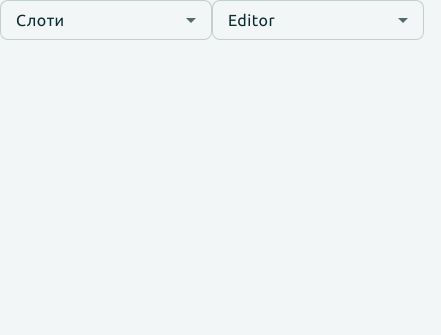
Test case: SelectSearchComponent (F9-14) › пробіл і літери в полі не вибирають пункт; Enter вибирає перший знайдений
Click the dropdown labelled "Слоти": (40, 20) [16, 8, 196, 32]
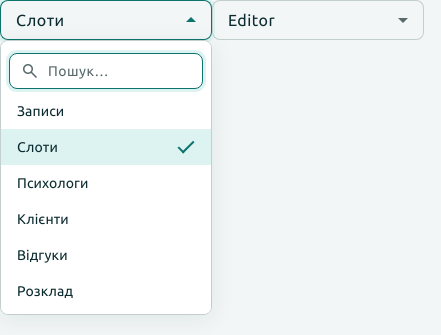
Press Space in the field with placeholder "Пошук…", box [48, 59, 192, 83]
Expected: the 1st text "Слоти" is shown, [16, 11, 65, 29]
In the field with placeholder "Пошук…": (120, 71) [48, 59, 192, 83], type "оплат"
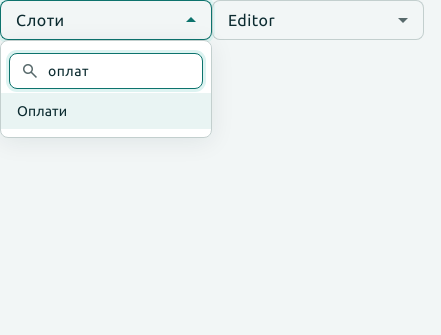
Press Enter in the field named "Пошук…", box [48, 59, 192, 83]
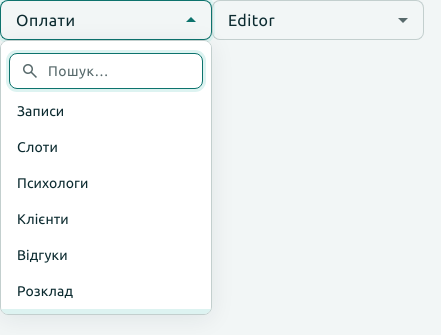
Expected: the text "Оплати" is shown, [16, 11, 76, 29]
